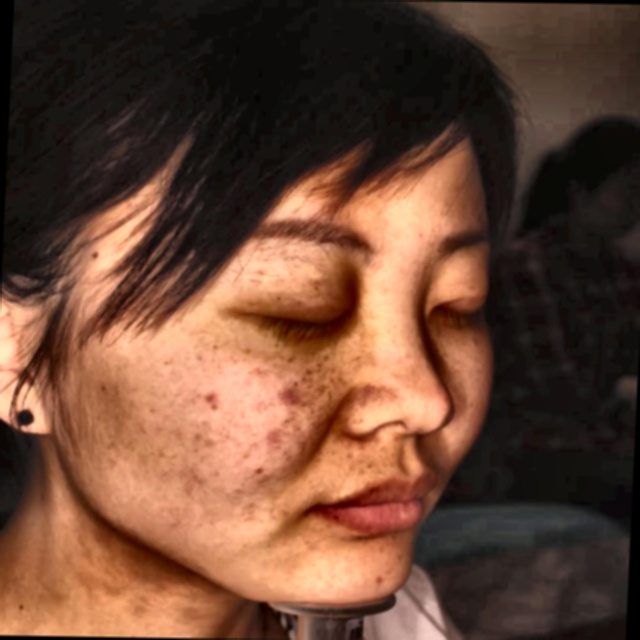comedone: (275, 381, 299, 413)
